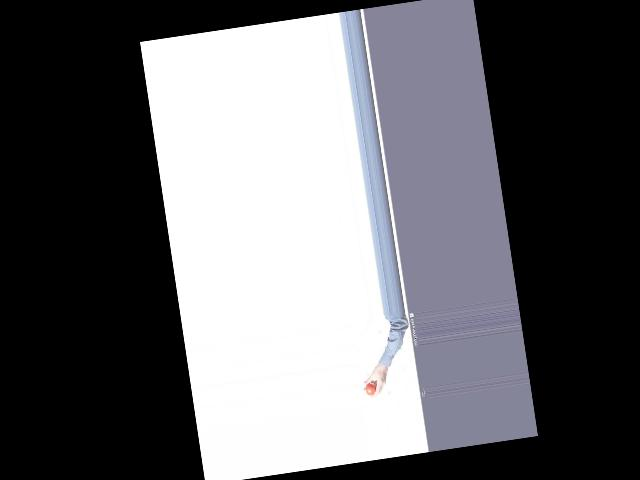tomato: (365, 383, 376, 396)
